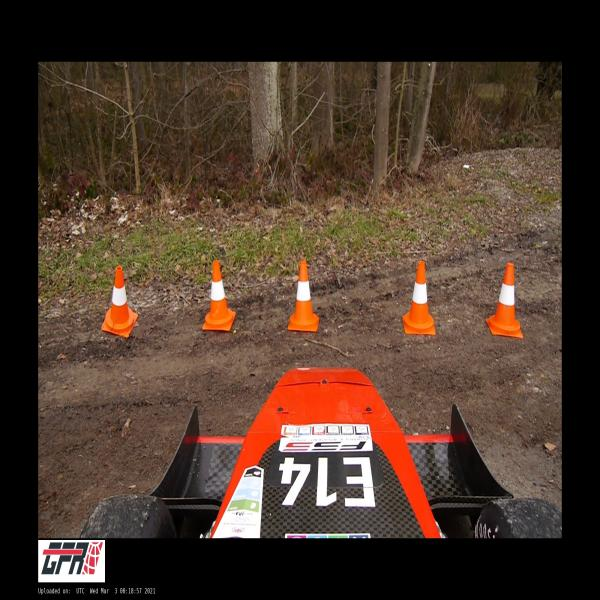orange_cone: (486, 263, 523, 337), (102, 266, 138, 336), (403, 262, 435, 334), (202, 261, 235, 330), (288, 261, 319, 331)
